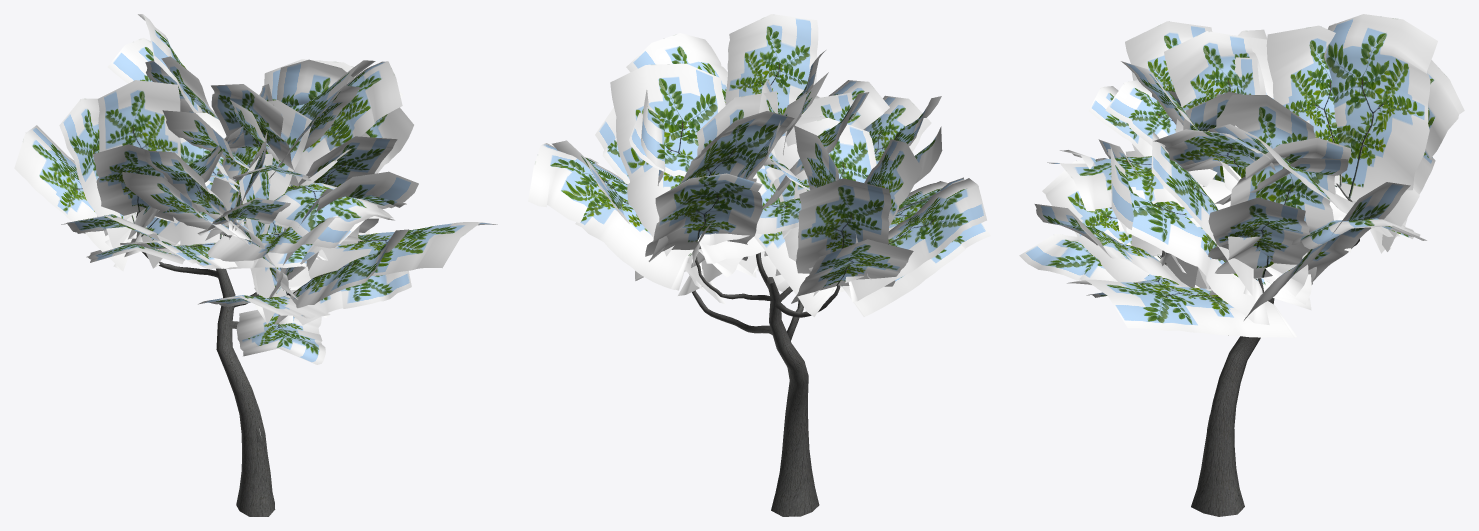
Rendered from Tree4.FBX.
The picture shows the model from 3 angles, left to right: view 1: azimuth 30°, elevation 25°; view 2: azimuth 150°, elevation 25°; view 3: azimuth 270°, elevation 25°; orthographic projection. The views are drawn at different scales.
Parts seen in each view (by area): view 1: Tree4_LOD0; view 2: Tree4_LOD0; view 3: Tree4_LOD0.
Boxes of the visible parts, bbox=[...] form: Tree4_LOD0: bbox=[14, 14, 497, 516]; Tree4_LOD0: bbox=[528, 14, 990, 516]; Tree4_LOD0: bbox=[1019, 14, 1464, 516].
Bounding box in the file's own units: 545 × 499 × 584.
2 materials, 2 textured.
